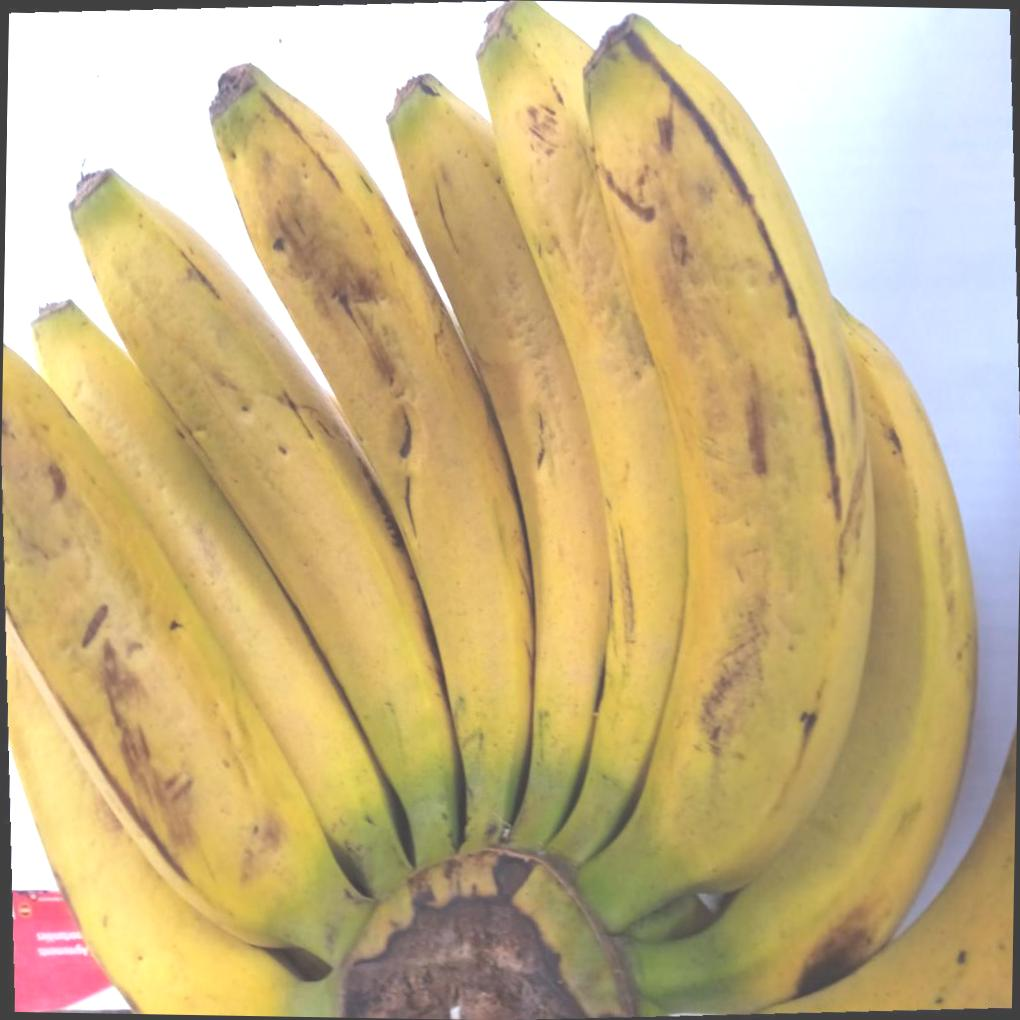Banana Ripe: (9, 26, 1020, 1020), (380, 0, 1020, 1020), (25, 34, 595, 1020), (0, 185, 465, 1018)
